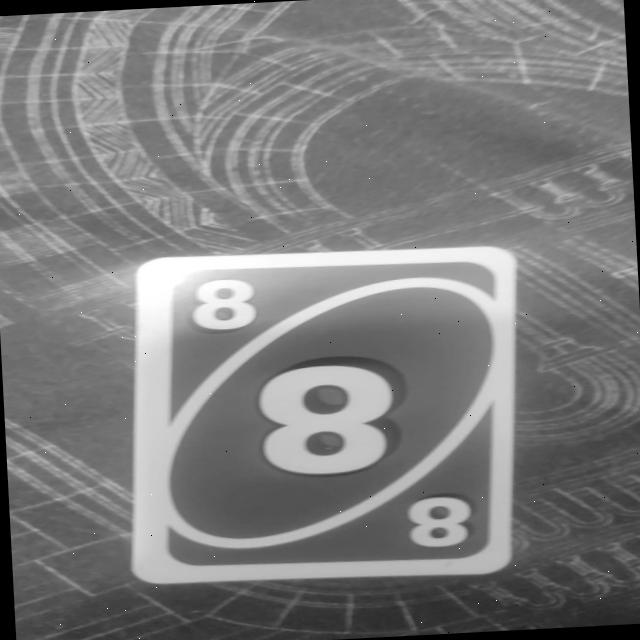card_8: (113, 237, 532, 594)
